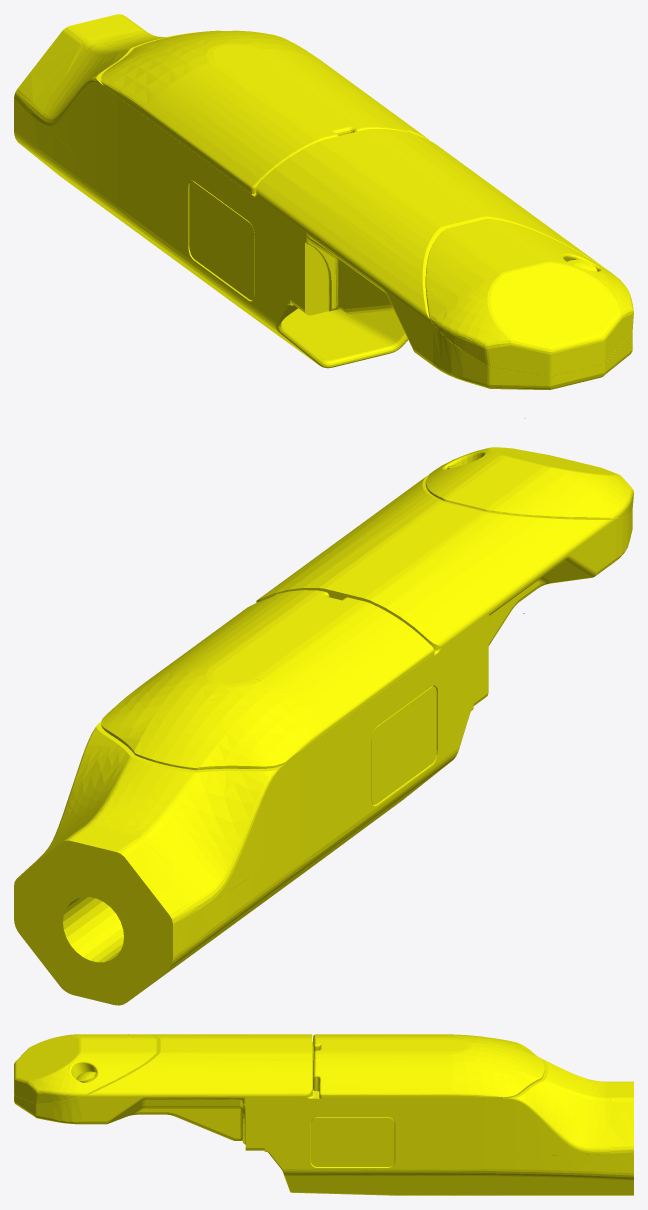
3 views of the same model, one above another, from view 1: azimuth 30°, elevation 25°; view 2: azimuth 150°, elevation 25°; view 3: azimuth 270°, elevation 25° (orthographic). The views are drawn at different scales.
Parts seen in each view (by area): view 1: node; view 2: node; view 3: node.
Part boxes in pixels (left/top/right/bottom): node: left=14, top=14, right=633, bottom=418; node: left=14, top=447, right=633, bottom=1005; node: left=14, top=1034, right=633, bottom=1195.
Bounding box in the file's own units: 150 × 174 × 686.
